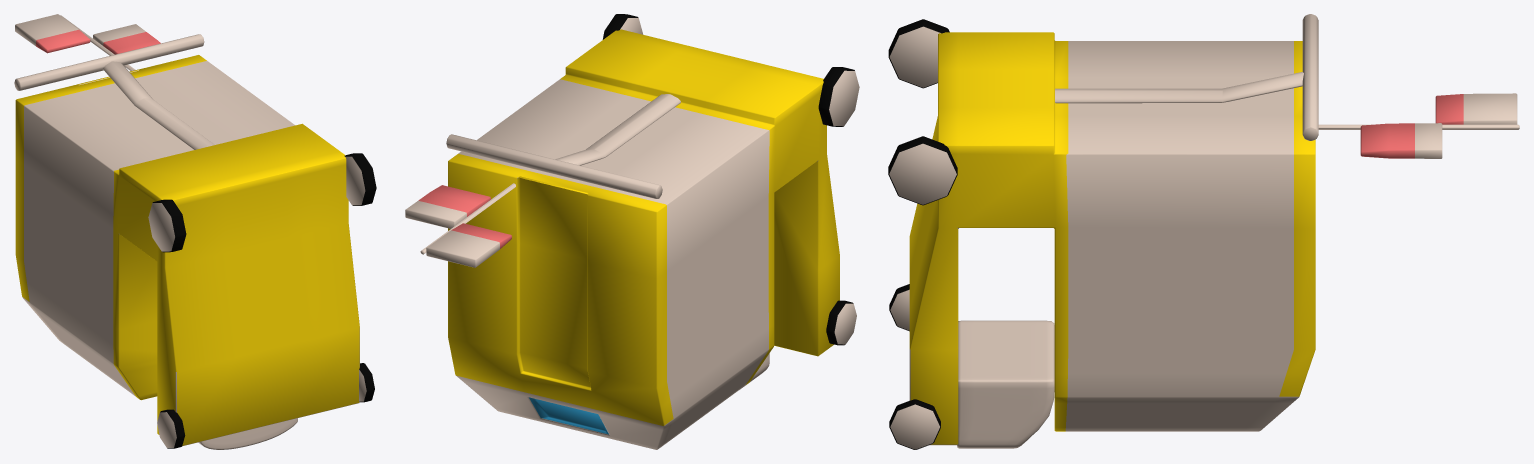
The picture shows the model from 3 angles, left to right: view 1: azimuth 30°, elevation 25°; view 2: azimuth 150°, elevation 25°; view 3: azimuth 270°, elevation 25°; orthographic projection. The views are drawn at different scales.
Visible parts, largest first — view 1: Cube.001; view 2: Cube.001; view 3: Cube.001.
Boxes of the visible parts, left/top/right/bottom form: Cube.001: left=14, top=14, right=376, bottom=449; Cube.001: left=405, top=14, right=859, bottom=449; Cube.001: left=888, top=14, right=1519, bottom=449.
Bounding box in the file's own units: 54.66 × 74.51 × 118.
